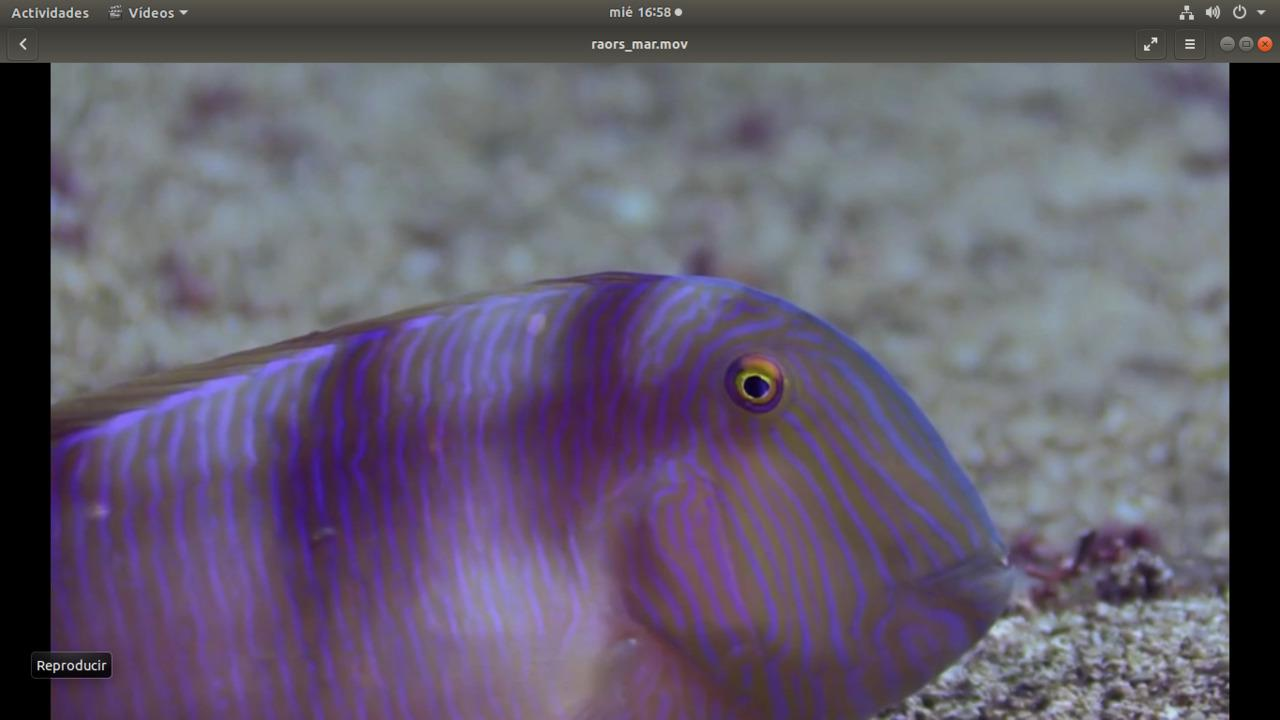raor: (52, 267, 1029, 707)
